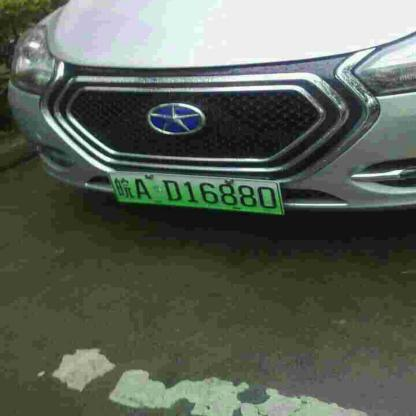lp: (109, 172, 284, 215)
